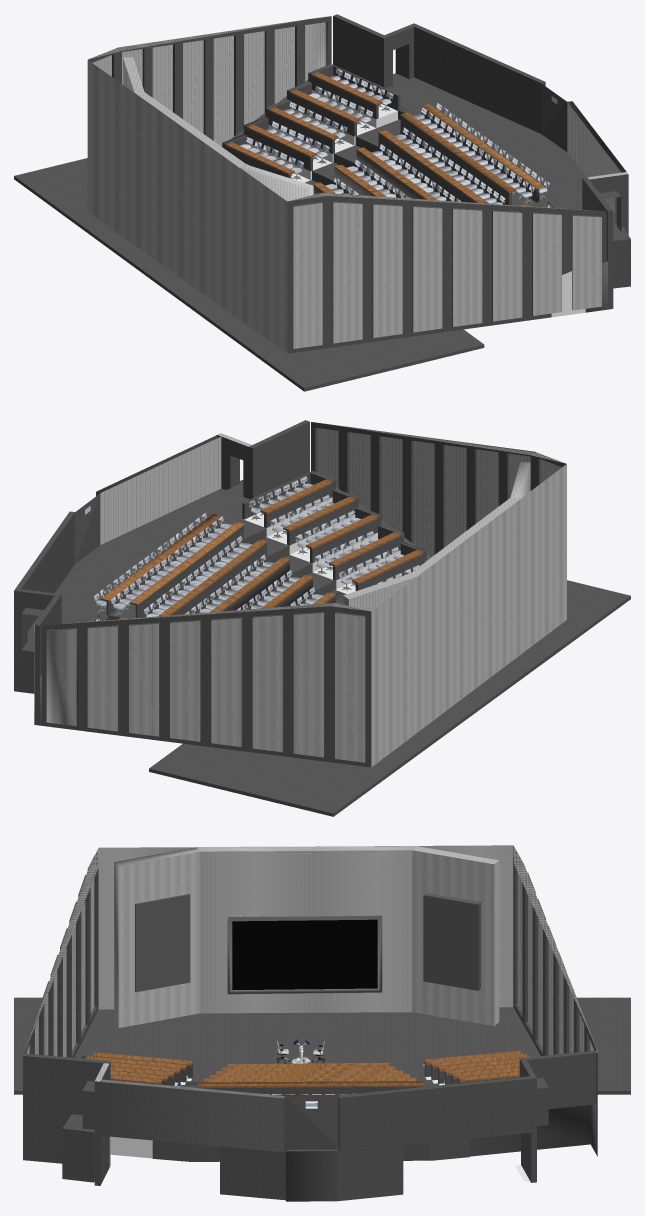
File: sample_model.glb
3 views of the same model, one above another, from view 1: azimuth 30°, elevation 25°; view 2: azimuth 150°, elevation 25°; view 3: azimuth 270°, elevation 25° (orthographic). The views are drawn at different scales.
Parts seen in each view (by area): view 1: sample_model; view 2: sample_model; view 3: sample_model.
Boxes of the visible parts, x1,y1,x2,y2 form: sample_model: (14, 14, 630, 391); sample_model: (14, 420, 630, 816); sample_model: (14, 845, 630, 1201).
Size of the model in its own units: 24.83 by 9.34 by 31.6.
Materials: 27 (15 with a texture image).
